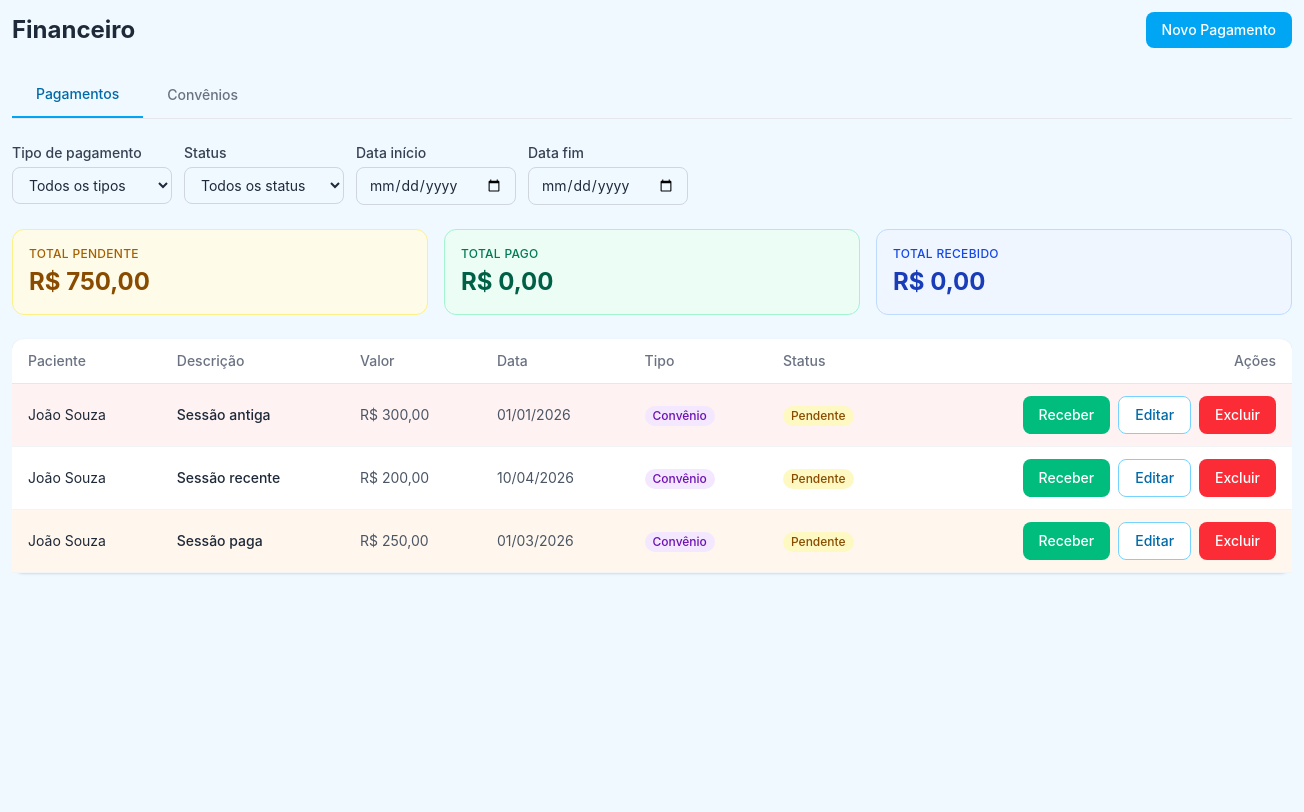
ConvenioPanel › displays days pending for pending convenio payments
Click the button "Convênios" at (203, 95), box [143, 72, 262, 118]
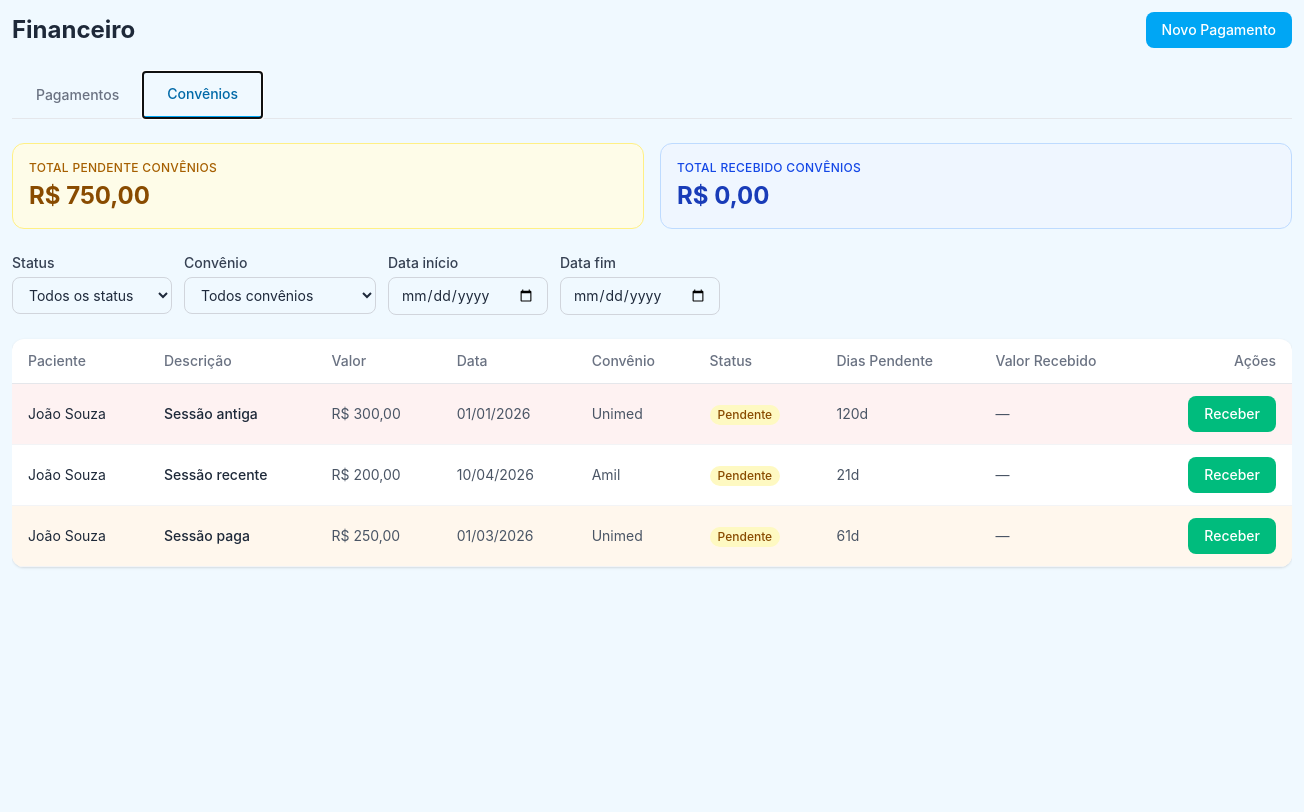
Now the text "120d" is shown, box [820, 384, 980, 444]
